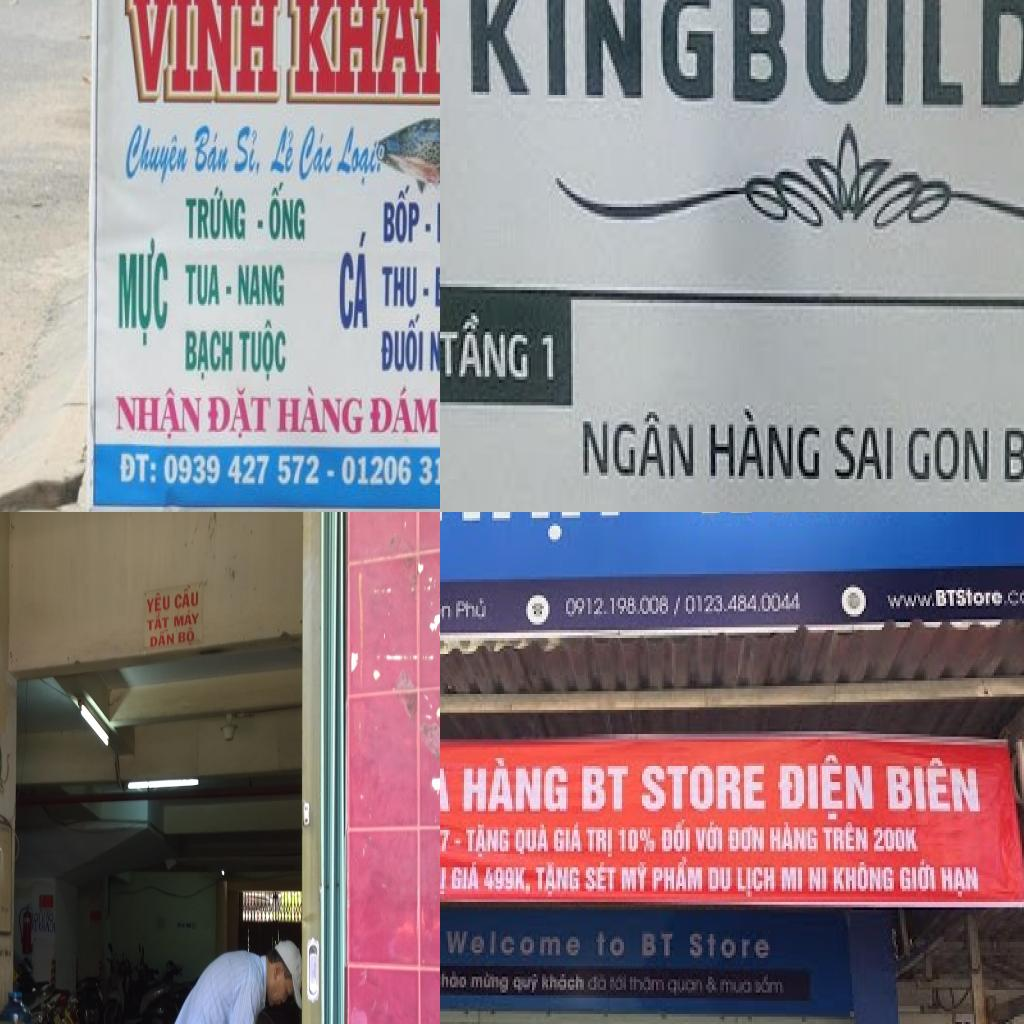text: (461, 0, 1024, 120), (122, 0, 286, 107), (284, 0, 440, 111), (703, 402, 825, 489), (575, 408, 699, 488), (638, 758, 772, 819), (454, 750, 572, 817), (774, 745, 876, 822), (440, 309, 535, 389), (903, 418, 997, 495), (884, 750, 984, 819), (115, 232, 172, 350), (162, 452, 339, 488), (444, 926, 584, 963), (115, 386, 204, 444), (121, 122, 193, 192), (274, 384, 366, 437), (882, 582, 1024, 616), (829, 422, 901, 488), (682, 587, 806, 622), (331, 123, 389, 190), (367, 384, 440, 437), (183, 184, 249, 242), (206, 386, 274, 442), (337, 227, 371, 335), (256, 179, 310, 246), (381, 179, 433, 246), (576, 761, 634, 819), (238, 318, 288, 384), (686, 929, 776, 963), (564, 595, 674, 622), (184, 328, 236, 384), (380, 311, 426, 374), (295, 123, 336, 188), (830, 859, 898, 897), (236, 262, 288, 310), (190, 120, 234, 176), (380, 263, 431, 311), (184, 262, 234, 310), (650, 857, 706, 899), (532, 859, 584, 902), (766, 819, 822, 857), (820, 819, 874, 857), (482, 862, 536, 899), (462, 822, 512, 859), (938, 862, 984, 902), (872, 825, 924, 859), (266, 123, 298, 178), (233, 122, 263, 180), (898, 856, 940, 896), (734, 865, 778, 902), (440, 744, 460, 822), (514, 820, 552, 860), (118, 450, 160, 486), (726, 822, 768, 857), (538, 969, 588, 998), (658, 816, 694, 856), (584, 859, 620, 897), (552, 820, 586, 860), (638, 929, 678, 963), (618, 824, 660, 856), (592, 926, 628, 963), (692, 819, 726, 857), (450, 859, 484, 897), (452, 596, 492, 628), (468, 969, 512, 998), (539, 332, 561, 389), (584, 825, 616, 862), (752, 972, 788, 1004), (620, 859, 650, 897), (628, 971, 666, 998), (664, 976, 706, 1000), (718, 971, 754, 998), (706, 864, 736, 896), (510, 971, 544, 998), (428, 312, 440, 386), (440, 966, 470, 992), (806, 864, 830, 896), (606, 969, 632, 998), (780, 865, 804, 894), (174, 584, 200, 610), (146, 591, 171, 613), (173, 608, 200, 628), (150, 627, 174, 649), (146, 611, 170, 631), (588, 972, 608, 996), (440, 597, 454, 627), (440, 862, 450, 902), (178, 627, 195, 647), (38, 920, 56, 932), (952, 1019, 980, 1024), (41, 912, 54, 922), (32, 913, 40, 922), (31, 922, 38, 932)
